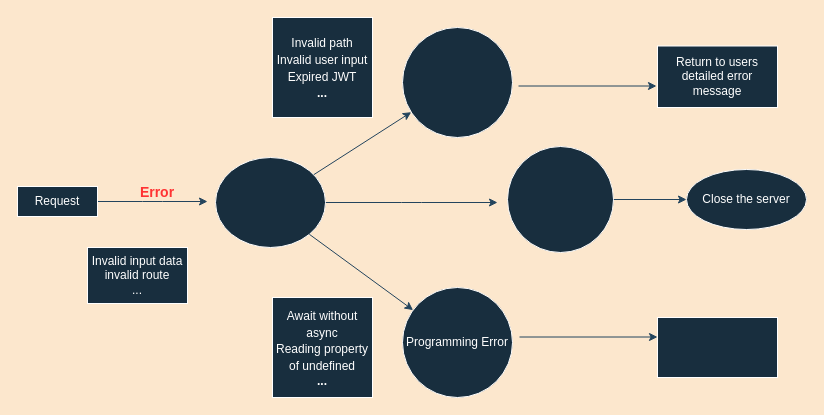
Image size: 824x415. Some labels were removed from this diagram. Each missing label, with the centre of its shape:
Catch with unhandled rejection handler: the point at 560,199
Global Error Handler: the point at 270,202
Opertionnal Error: the point at 457,82
Return to users generic error message: the point at 717,347
